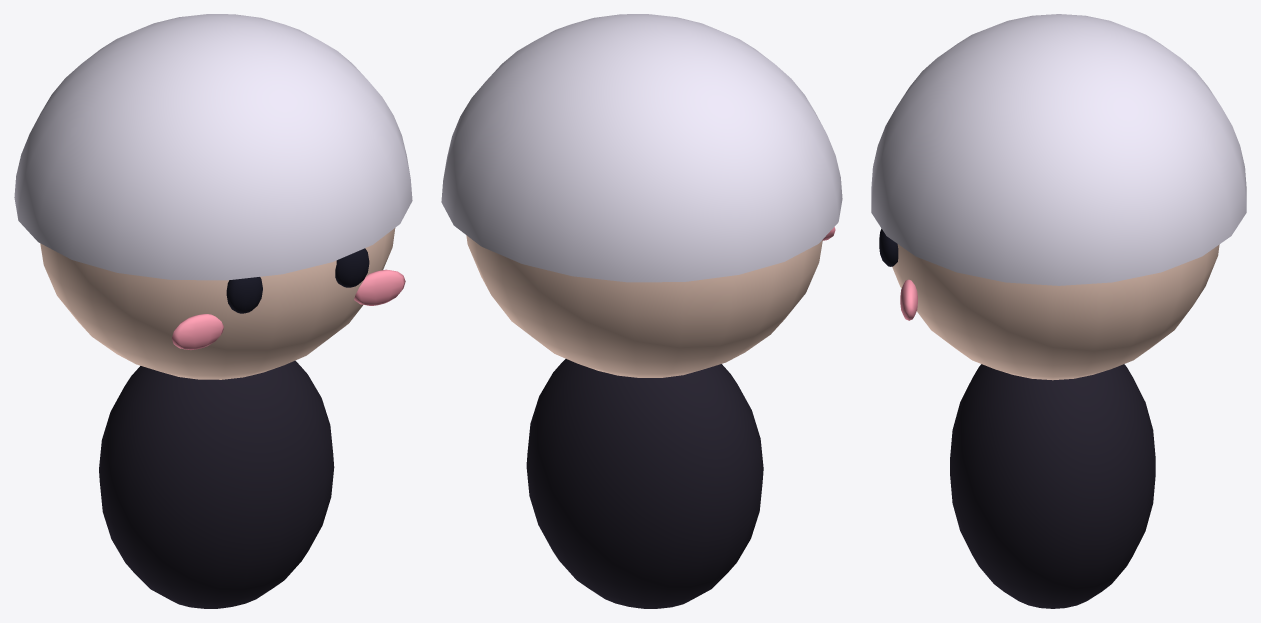
Rendered from gojo.placeholder.glb.
3 renders of one model, left to right at view 1: azimuth 30°, elevation 25°; view 2: azimuth 150°, elevation 25°; view 3: azimuth 270°, elevation 25°, orthographic.
Parts seen in each view (by area): view 1: Hair, Body, Head, CheekL, CheekR, EyeL, EyeR; view 2: Hair, Body, Head; view 3: Hair, Body, Head, CheekR, EyeR.
Part boxes in pixels (x1,y1,x2,y2): Hair: (14,14,412,280); Body: (99,360,334,608); Head: (40,228,395,379); CheekL: (172,314,223,349); CheekR: (354,269,405,305); EyeL: (226,277,262,313); EyeR: (335,248,369,287); Hair: (441,14,842,282); Body: (526,359,763,608); Head: (466,235,822,377); Hair: (871,14,1246,285); Body: (950,364,1155,608); Head: (892,244,1219,380); CheekR: (900,279,917,320); EyeR: (879,228,898,266).
Size of the model in its own units: 0.66 by 1.02 by 0.6137.
